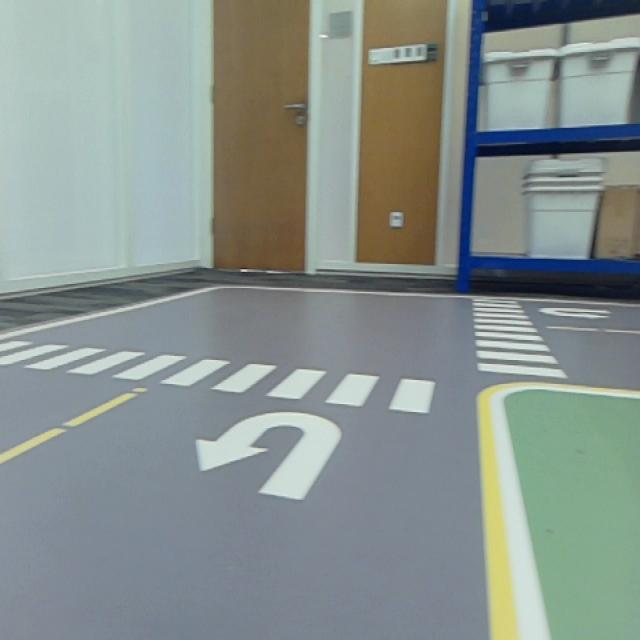left_lane: (0, 384, 149, 465)
right_lane: (1, 286, 214, 340), (476, 399, 516, 638)
